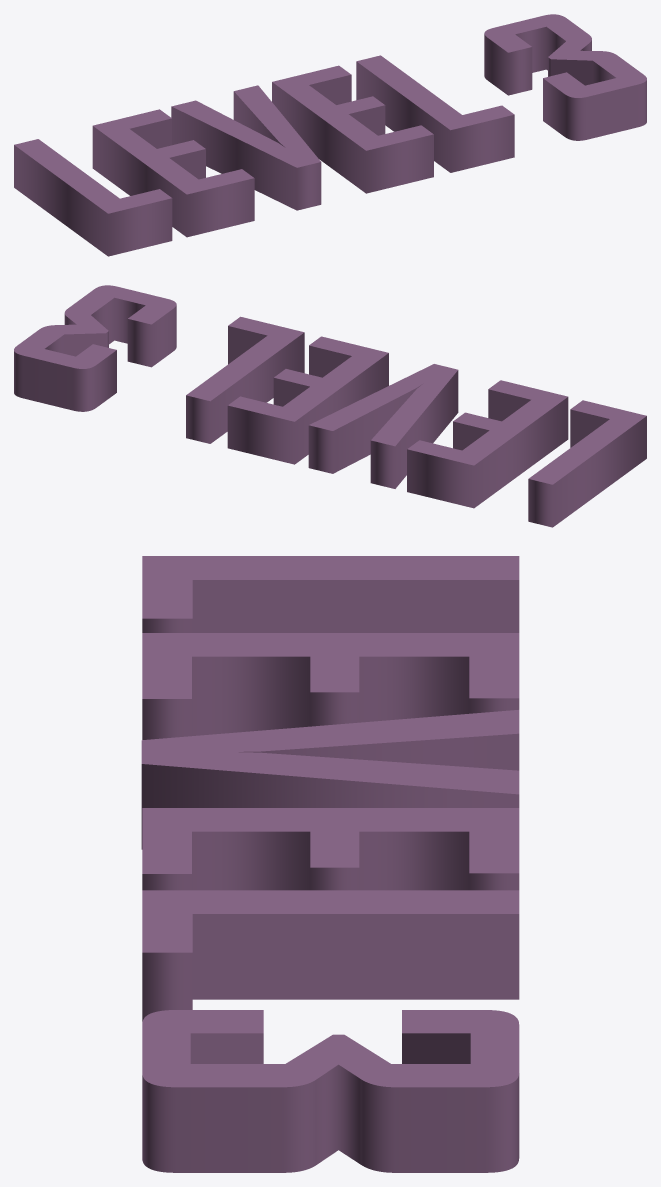
Rendered from Level_3.fbx.
3 renders of one model, top to bottom at view 1: azimuth 30°, elevation 25°; view 2: azimuth 150°, elevation 25°; view 3: azimuth 270°, elevation 25°, orthographic. The views are drawn at different scales.
Visible parts, largest first — view 1: Text; view 2: Text; view 3: Text.
Boxes of the visible parts, bbox=[...] form: Text: bbox=[14, 14, 646, 256]; Text: bbox=[14, 285, 646, 527]; Text: bbox=[141, 556, 519, 1172].
Size of the model in its own units: 213 by 16 by 63.91.
